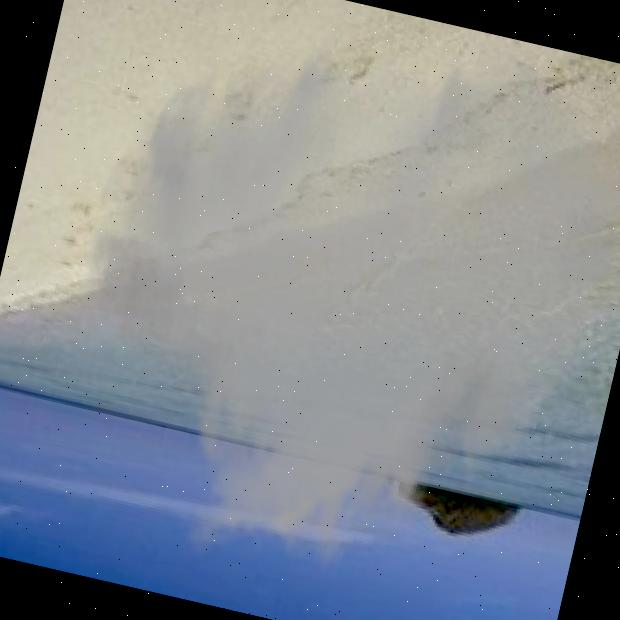smoke: (19, 0, 620, 620)
